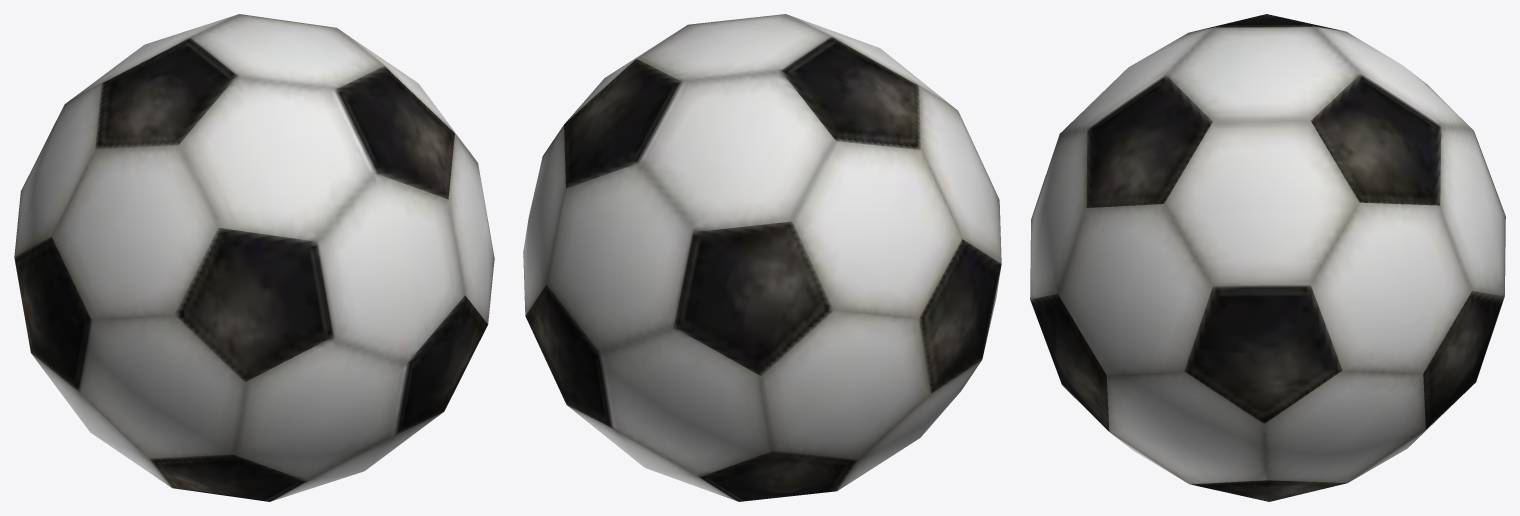
File: ball.glb
The picture shows the model from 3 angles, left to right: view 1: azimuth 30°, elevation 25°; view 2: azimuth 150°, elevation 25°; view 3: azimuth 270°, elevation 25°; orthographic projection.
Parts seen in each view (by area): view 1: st_Ball_030; view 2: st_Ball_030; view 3: st_Ball_030.
Part boxes in pixels (left/top/right/bottom): st_Ball_030: left=14, top=14, right=494, bottom=501; st_Ball_030: left=523, top=14, right=1001, bottom=501; st_Ball_030: left=1030, top=14, right=1505, bottom=501.
Bounding box in the file's own units: 0.2216 × 0.2134 × 0.2158.
Materials: 1 (1 with a texture image).
